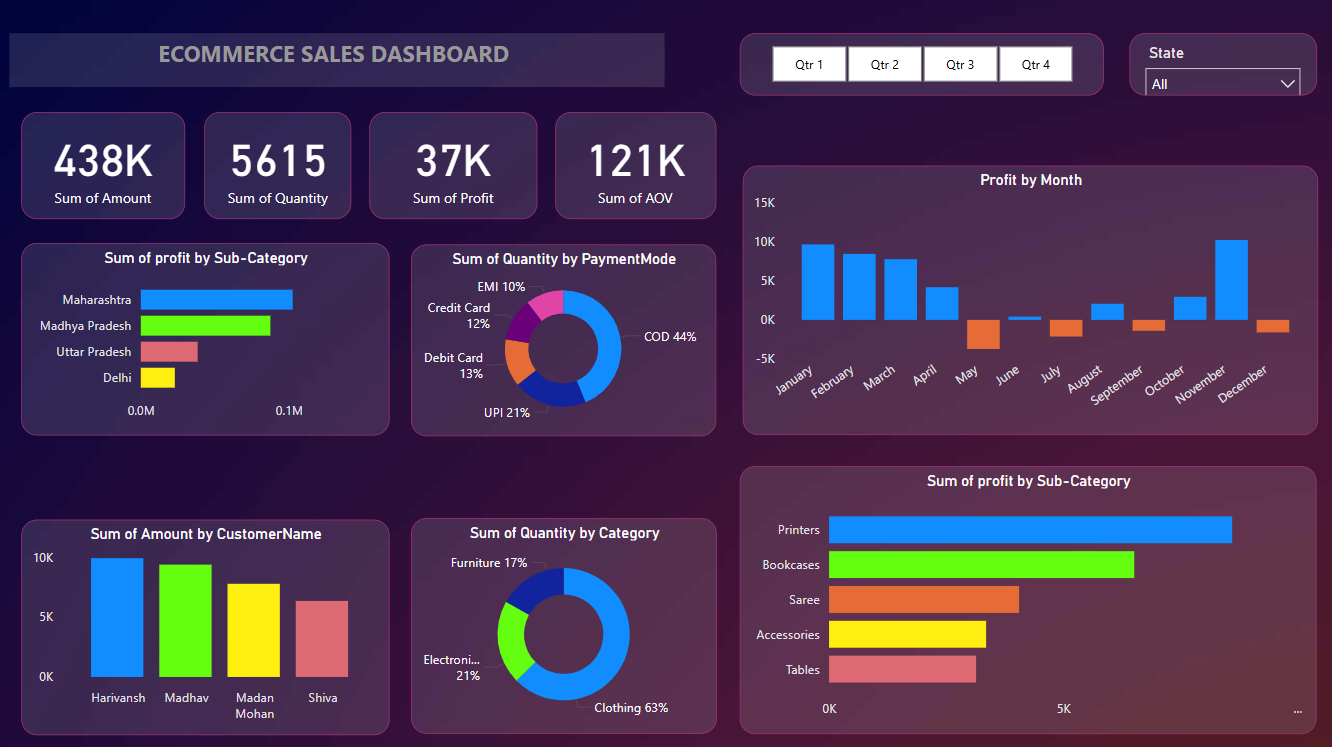

The page's visual inventory and layout, read from the dashboard file:
{"tool":"powerbi","page":{"name":"Page 1","canvas":[1280,720],"ordinal":0},"visuals":[{"type":"textbox","box":[9.7,33.4,629,51.5],"z":0},{"type":"columnChart","title":"Profit by Month","fields":{"Y":["Details.Profit"],"Category":["Orders.Order Date.Variation.Date Hierarchy.Month"]},"box":[713.9,160,552.4,258.8],"z":1000},{"type":"barChart","title":"Sum of profit by Sub-Category","fields":{"Category":["Details.Sub-Category"],"Y":["Details.Profit"]},"box":[711.1,448.1,553.8,257.4],"z":2000},{"type":"donutChart","fields":{"Category":["Details.Category"],"Y":["Details.Quantity"]},"box":[395.2,498.2,293.6,207.3],"z":3000},{"type":"donutChart","fields":{"Y":["Details.Quantity"],"Category":["Details.PaymentMode"]},"box":[395.7,235.7,292.9,184.3],"z":4000},{"type":"card","fields":{"Values":["Details.Amount"]},"box":[21.4,108.6,157.1,102.9],"z":5000},{"type":"card","fields":{"Values":["Details.Quantity"]},"box":[197.1,108.6,141.4,102.9],"z":6000},{"type":"card","fields":{"Values":["Details.Profit"]},"box":[355.7,108.6,161.4,102.9],"z":7000},{"type":"card","fields":{"Values":["Details.AOV"]},"box":[534.3,108.6,154.3,102.9],"z":8000},{"type":"barChart","title":"Sum of profit by Sub-Category","fields":{"Category":["Orders.State"],"Y":["Details.Amount"]},"box":[20.9,233.8,353.5,185.1],"z":9000},{"type":"columnChart","fields":{"Category":["Orders.CustomerName"],"Y":["Details.Amount"]},"box":[20.9,499.6,353.5,207.3],"z":10000},{"type":"slicer","fields":{"Values":["Orders.Order Date.Variation.Date Hierarchy.Quarter"]},"box":[711.1,33.4,349.3,59.8],"z":11000},{"type":"slicer","fields":{"Values":["Orders.State"]},"box":[1084.5,13.9,180.2,60.1],"z":12000}]}

Visuals, with their boxes in screenshot pixels (x1, y1, x2, y2), scaled from the page's 1280x720 canvas onto the 1332x747 screenshot:
textbox: 10,35,665,88
"Profit by Month" columnChart: 743,166,1318,435
"Sum of profit by Sub-Category" barChart: 740,465,1316,732
donutChart - Details.Category x Details.Quantity: 411,517,717,732
donutChart - Details.Quantity x Details.PaymentMode: 412,245,717,436
card - Details.Amount: 22,113,186,219
card - Details.Quantity: 205,113,352,219
card - Details.Profit: 370,113,538,219
card - Details.AOV: 556,113,717,219
"Sum of profit by Sub-Category" barChart: 22,243,390,435
columnChart - Orders.CustomerName x Details.Amount: 22,518,390,733
slicer - Orders.Order Date.Variation.Date Hierarchy.Quarter: 740,35,1103,97
slicer - Orders.State: 1129,14,1316,77
